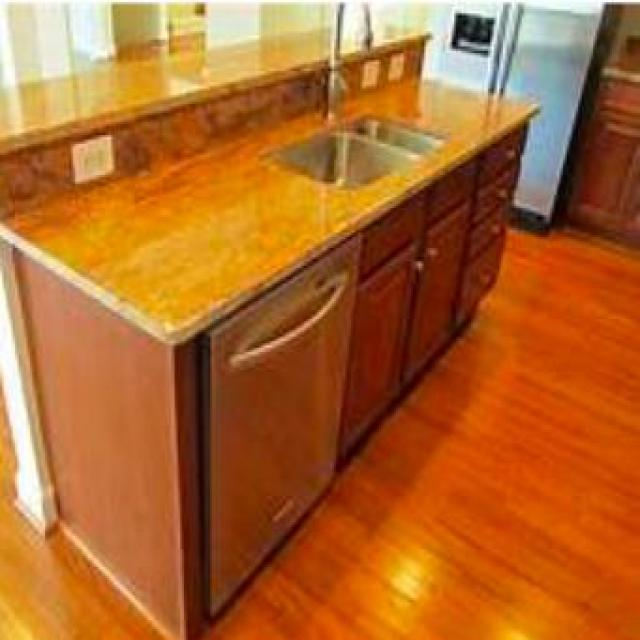dishwasher: (199, 230, 351, 618)
